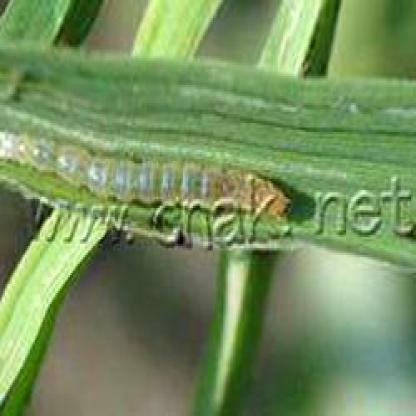leaf-folder: (6, 112, 350, 231)
